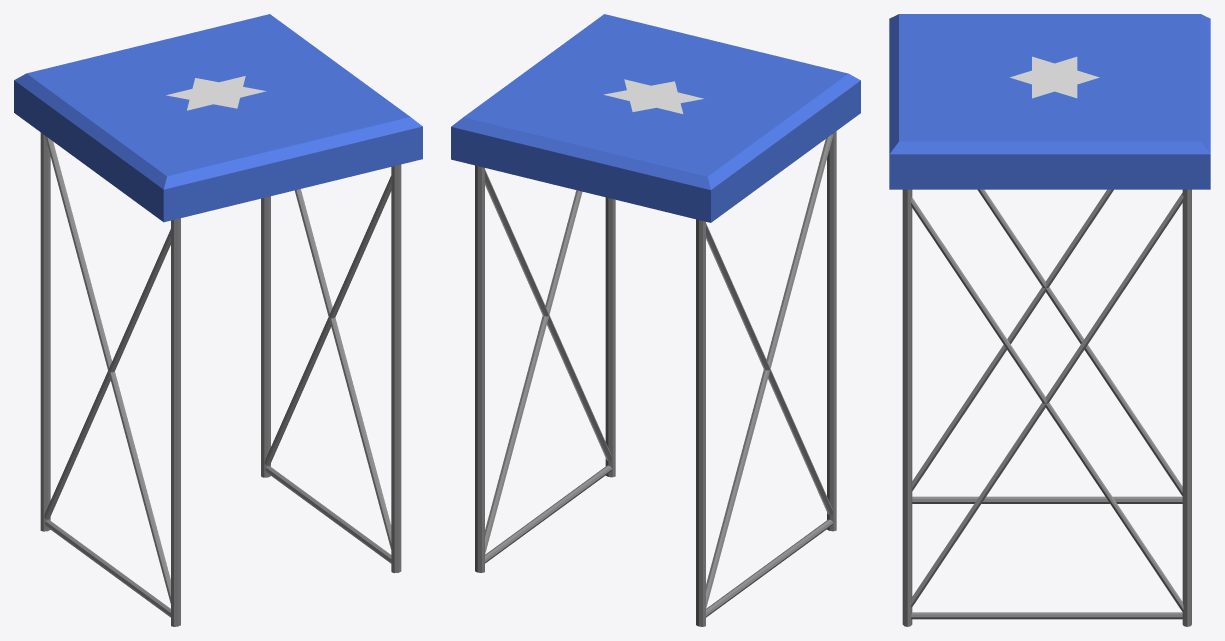
Rendered from AdjustablePlatform.fbx.
3 renders of one model, left to right at view 1: azimuth 30°, elevation 25°; view 2: azimuth 150°, elevation 25°; view 3: azimuth 270°, elevation 25°, orthographic. The views are drawn at different scales.
Parts seen in each view (by area): view 1: Top, Stand; view 2: Top, Stand; view 3: Top, Stand.
Part boxes in pixels (<box>): Top: <box>14,14,422,222</box>; Stand: <box>40,132,401,626</box>; Top: <box>451,14,860,222</box>; Stand: <box>475,131,836,626</box>; Top: <box>889,14,1210,189</box>; Stand: <box>902,189,1191,626</box>.
Bounding box in the file's own units: 560 × 940 × 560.
